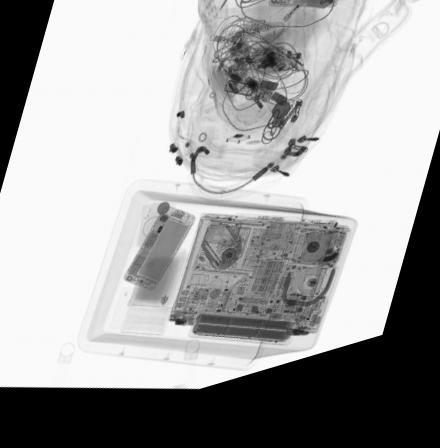Lighter: (282, 4, 317, 38)
